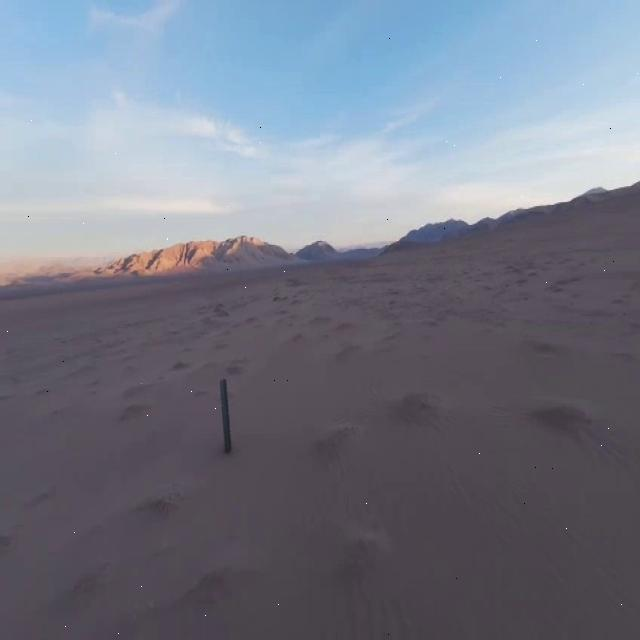Tire: (220, 379, 231, 453)
